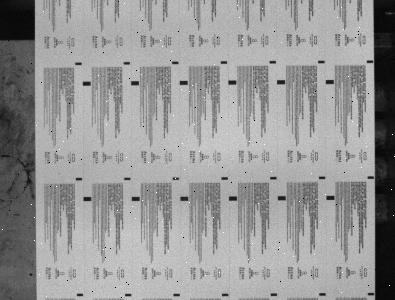qblock: (82, 81, 91, 86), (179, 80, 188, 85), (228, 80, 237, 85), (131, 196, 140, 201), (180, 196, 189, 201), (326, 195, 335, 200), (326, 79, 334, 84), (83, 197, 92, 201), (131, 81, 139, 85), (277, 80, 285, 84), (229, 196, 237, 200), (278, 196, 286, 200)
smallqblock: (124, 293, 132, 297), (269, 60, 276, 64), (270, 176, 277, 180), (76, 293, 84, 296), (76, 177, 82, 181), (367, 176, 375, 179), (75, 62, 82, 65), (173, 293, 180, 296), (172, 61, 179, 64), (123, 62, 130, 65), (221, 61, 228, 64), (222, 293, 229, 296), (270, 293, 277, 296), (319, 293, 326, 296), (318, 60, 325, 63), (221, 177, 228, 180), (124, 177, 131, 180), (173, 177, 180, 180), (367, 60, 374, 63), (319, 176, 326, 179), (368, 292, 375, 295)
